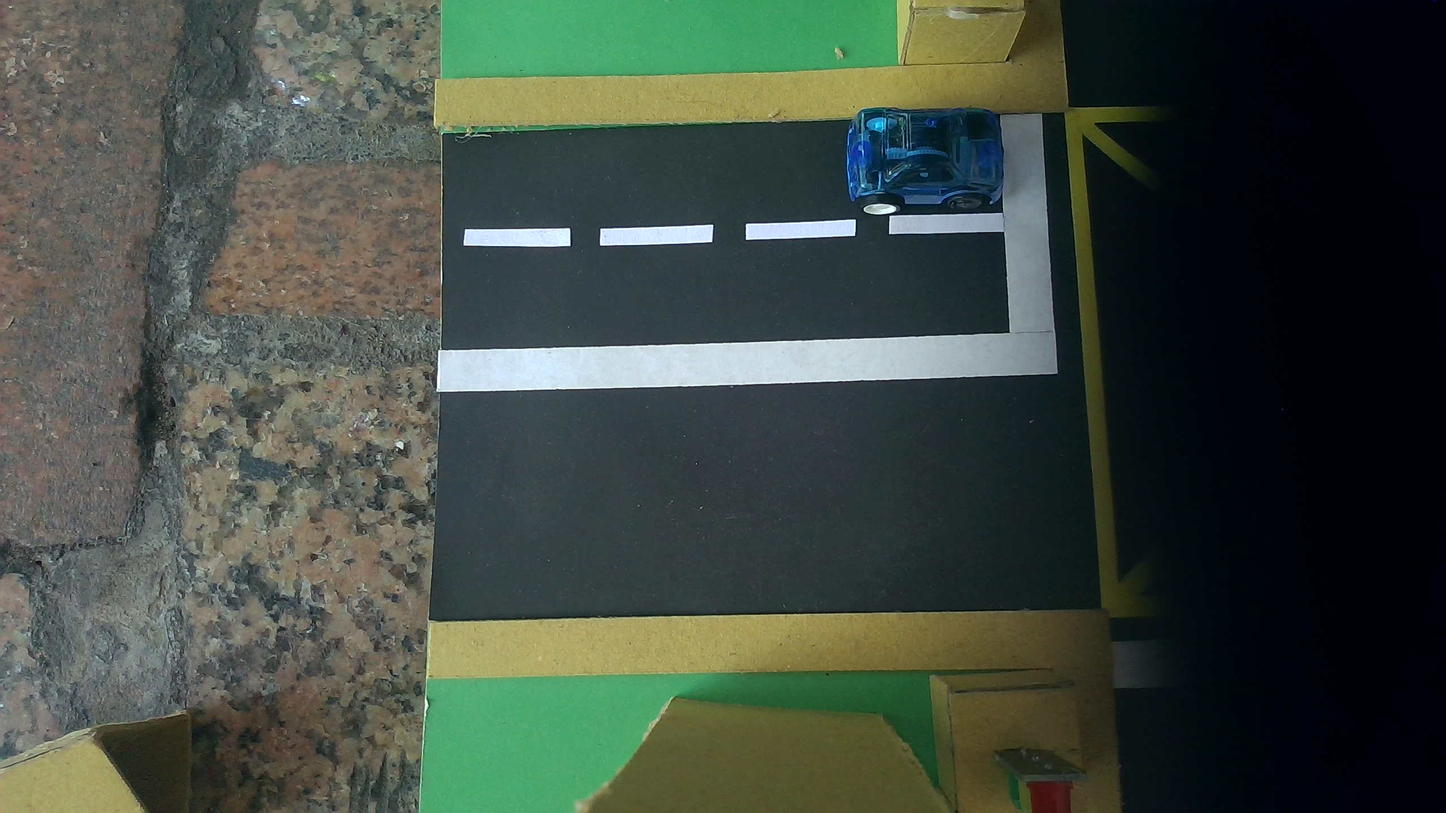Mobil biru: (844, 107, 1004, 215)
